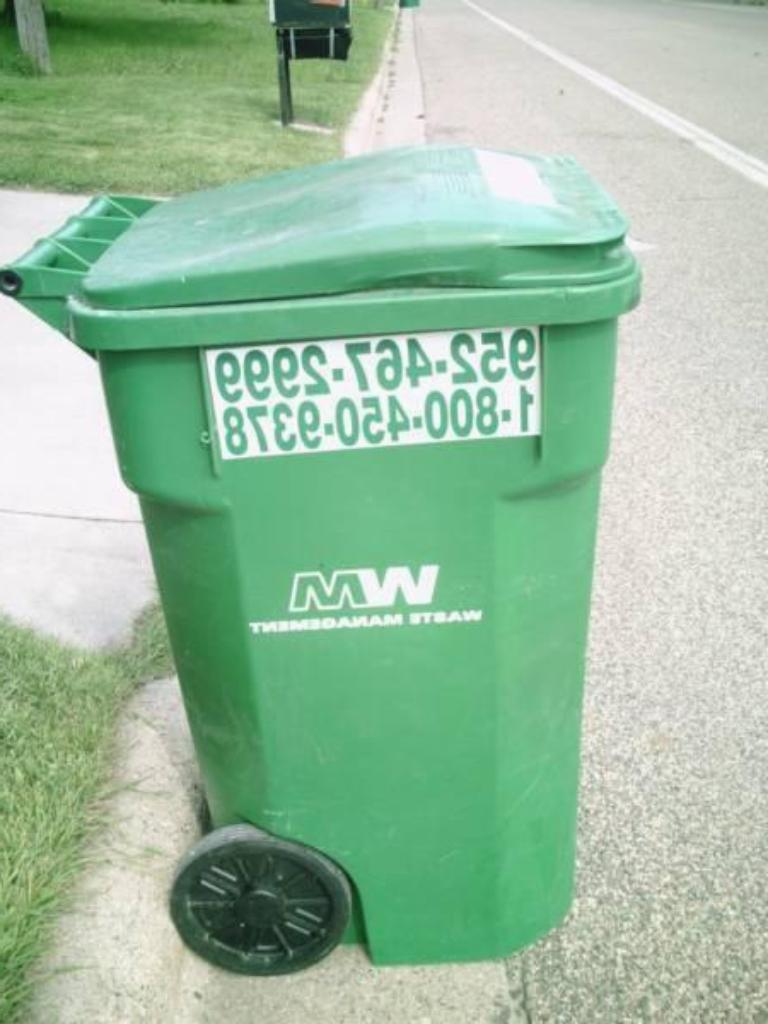dustbin: (7, 133, 638, 980)
